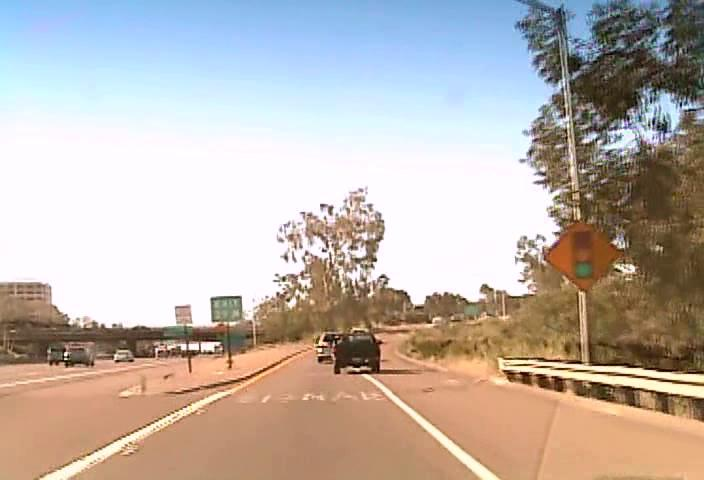signalAhead: (544, 219, 619, 292)
